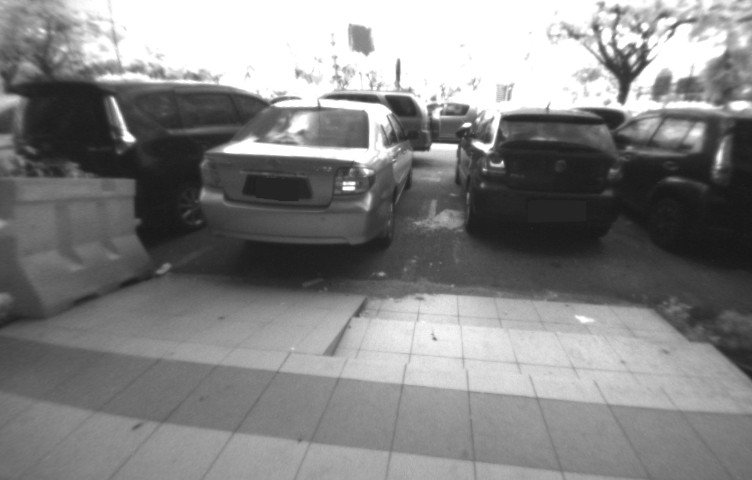down_steps: (319, 287, 745, 389)
mixed_gradient: (278, 281, 389, 388)
